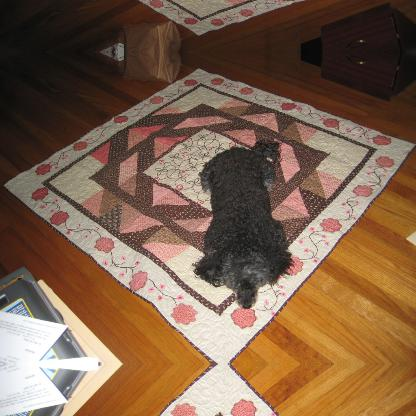Dog: (190, 138, 292, 308)
